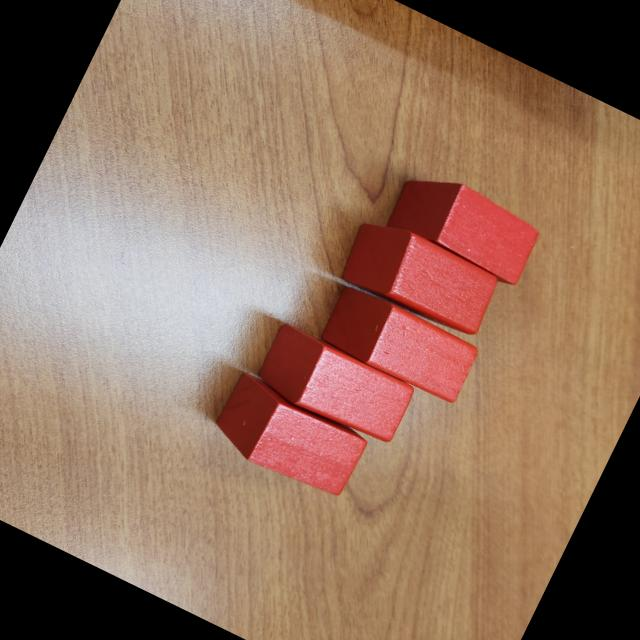red: (333, 208, 506, 344), (378, 156, 550, 290), (203, 369, 371, 505), (252, 321, 417, 450), (318, 280, 484, 408)
